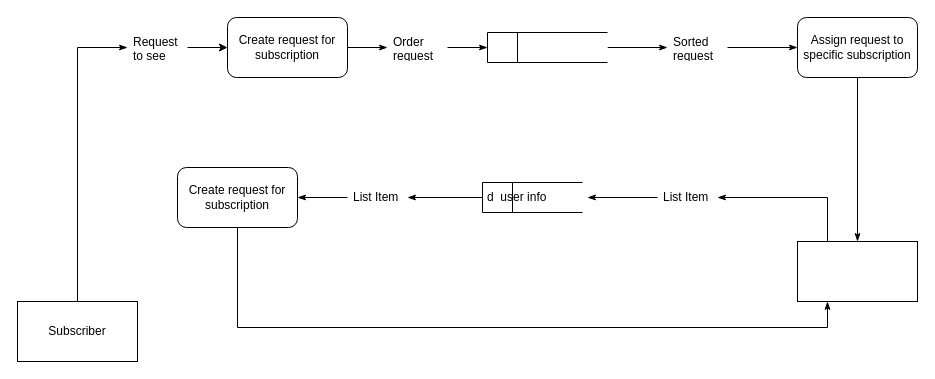
Image size: 935x379. Some labels were removed from this diagram. The centre of each missing label's shape, as x and y in pixels:
q request queue: the point at 547,47
Subscription: the point at 857,271
